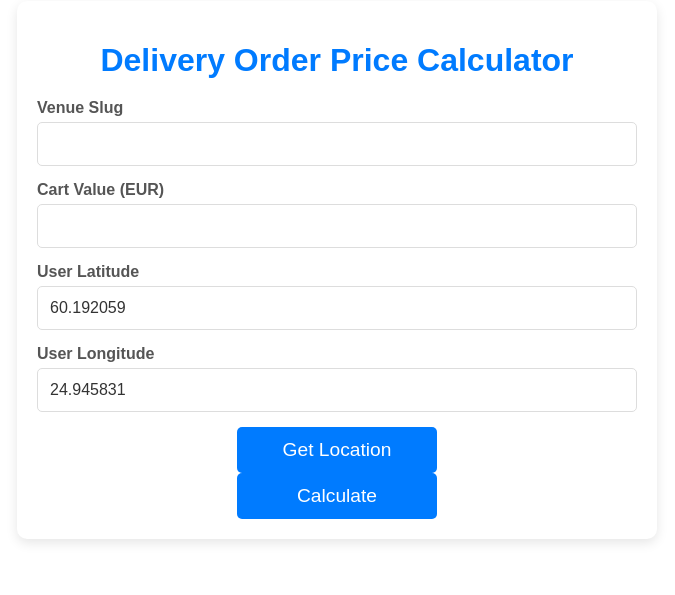
DeliveryOrderPriceCalculator › displays error message for invalid cart value
This screenshot has width=675, height=595.
Type "-10" into the field with test id "cartValue" at x=337, y=226, box [37,204,637,248]
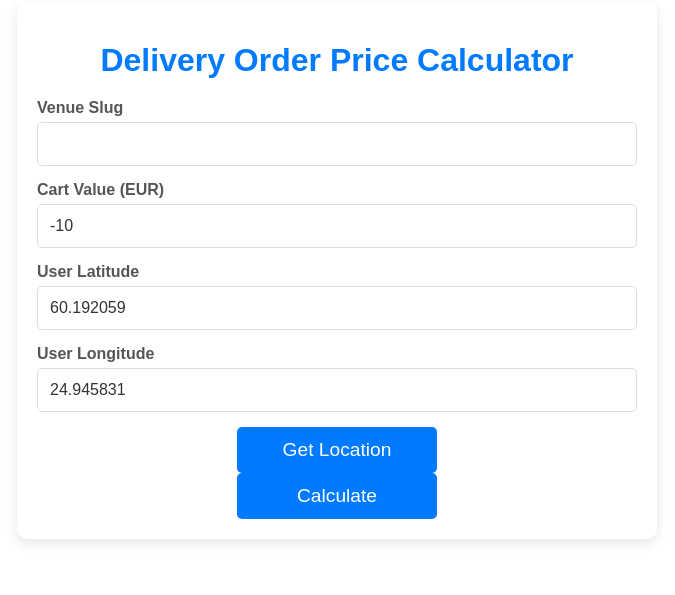
Click the button with test id "calculateDelivery" at x=337, y=496, box [237,473,437,519]
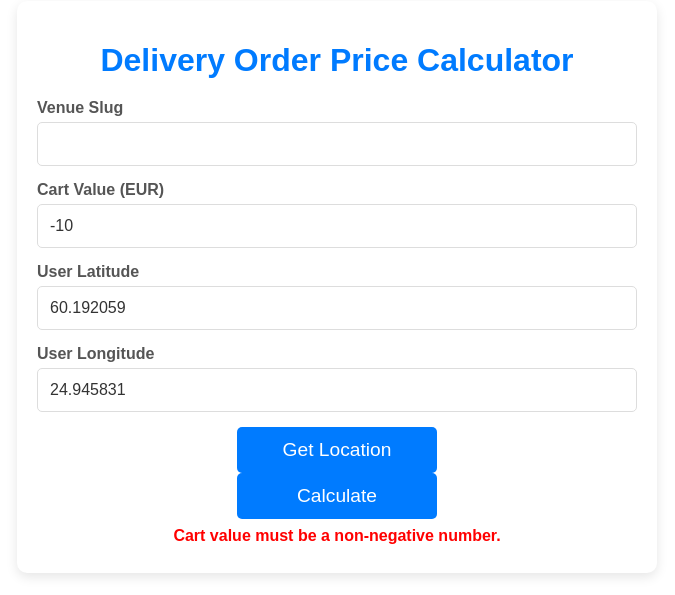
Check: the text "Cart value must be a non-negative number." is shown, box [173,527,501,544]
